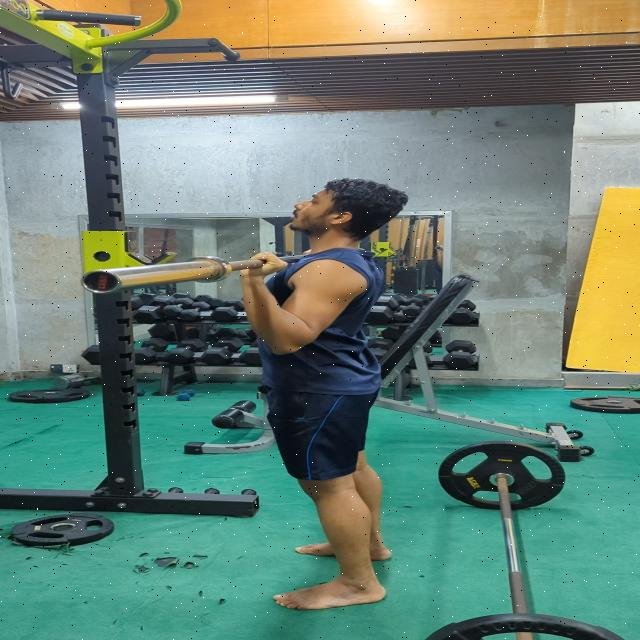Normal_OverheadPress: (219, 165, 430, 622)
